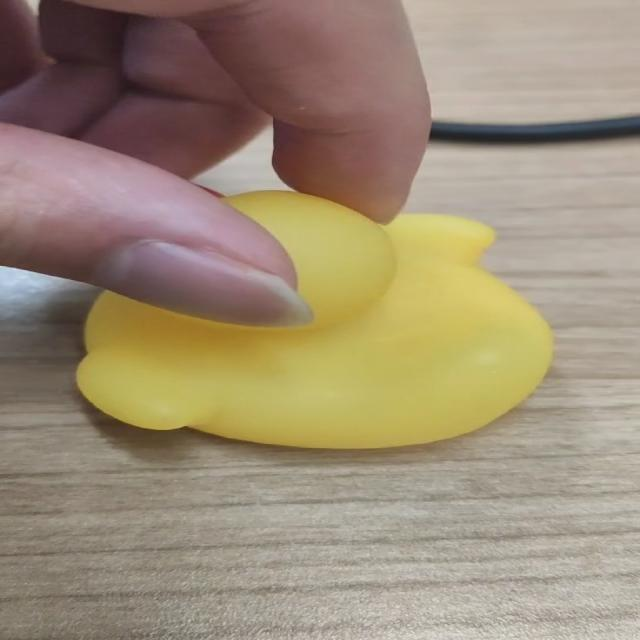rubber-duck: (76, 190, 550, 446)
